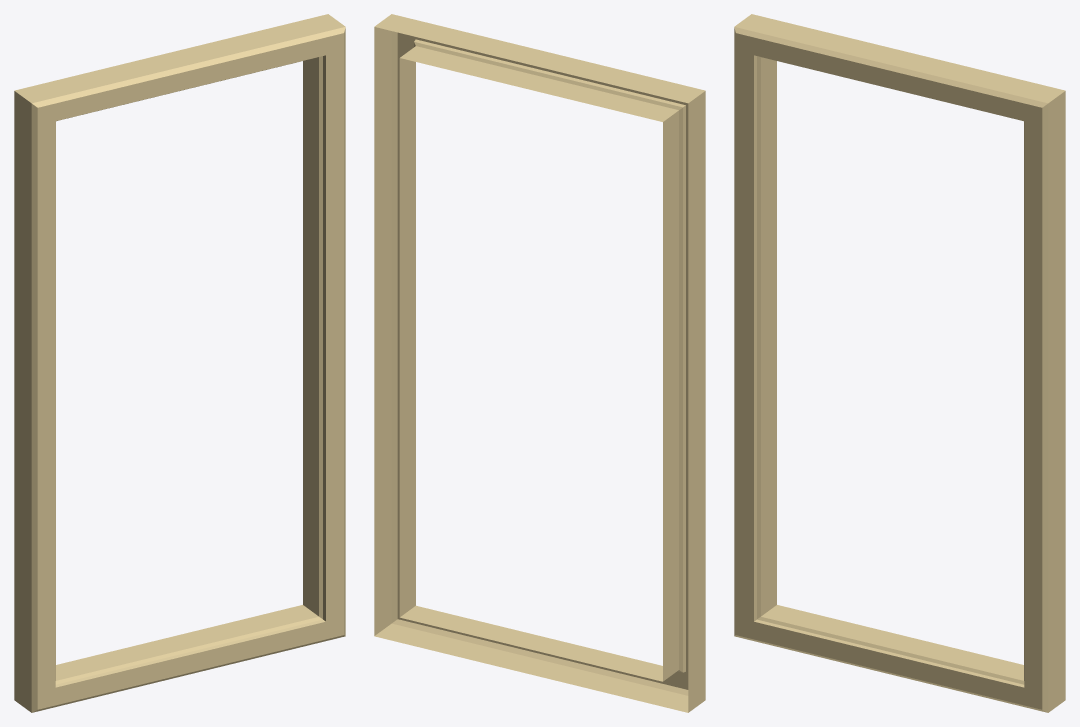
The model's file is WoodDoorframe.fbx.
The picture shows the model from 3 angles, left to right: view 1: azimuth 30°, elevation 25°; view 2: azimuth 150°, elevation 25°; view 3: azimuth 330°, elevation 25°; orthographic projection.
Visible parts, largest first — view 1: Doorframe_low; view 2: Doorframe_low; view 3: Doorframe_low.
Part boxes in pixels (box(x1,y1,x2,y2)): Doorframe_low: box(14, 14, 345, 712); Doorframe_low: box(374, 14, 705, 712); Doorframe_low: box(734, 14, 1065, 712).
Size of the model in its own units: 1.2 by 0.1299 by 2.23.
